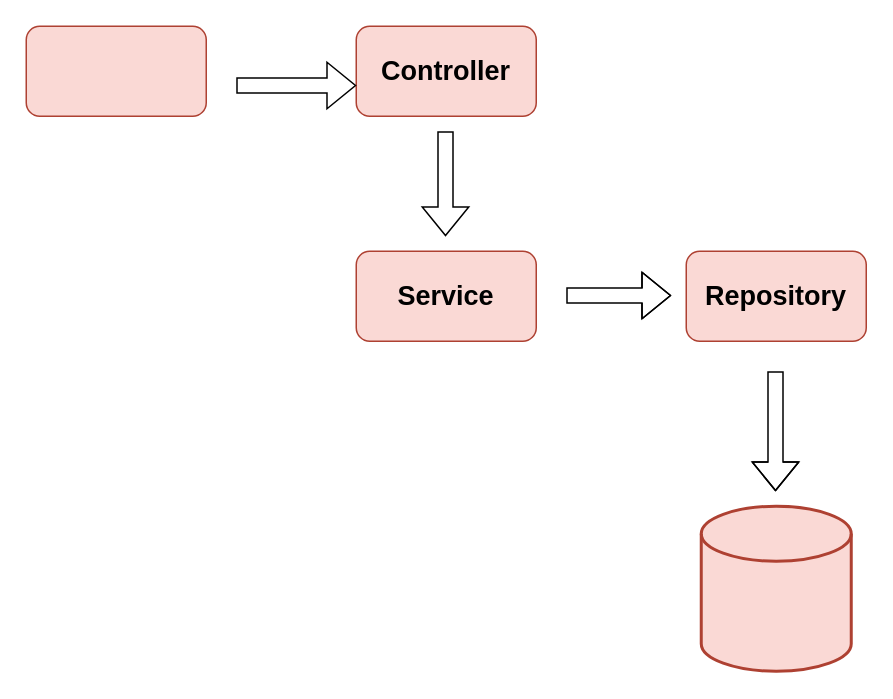
Image size: 893x699. Some labels were removed from this diagram. Here are the shapes that lost their labels. From the top down, the centre of each, then its label:
At pixel 115 70: "Client".
At pixel 775 588: "Data Base H2".
